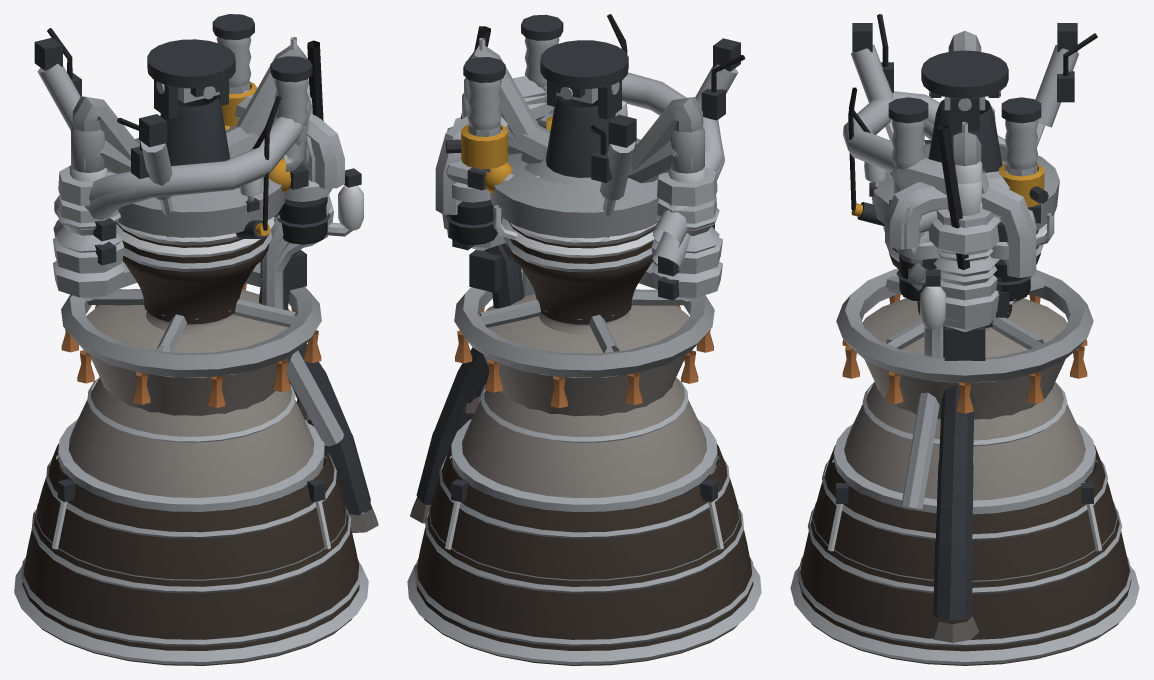
Rendered from engine_s.glb.
3 views of the same model, side by side, from view 1: azimuth 30°, elevation 25°; view 2: azimuth 150°, elevation 25°; view 3: azimuth 270°, elevation 25° (orthographic).
Parts seen in each view (by area): view 1: slot_nozzleExt__ablative, slot_contour, slot_contour__aerospike, slot_cycle__ffsc, slot_cycle__sc_fuel, slot_cycle, gimbal_block, slot_chamber__ablative, slot_nozzleExt, actuators, slot_cycle__electric, ducts (+7 smaller); view 2: slot_nozzleExt__ablative, slot_contour, slot_contour__aerospike, slot_cycle__sc_fuel, slot_cycle__ffsc, gimbal_block, slot_chamber__ablative, slot_cycle, slot_nozzleExt, actuators, ducts, slot_cycle__electric (+7 smaller); view 3: slot_nozzleExt__ablative, slot_contour__aerospike, slot_contour, slot_cycle, slot_cycle__sc, slot_cycle__ffsc, gimbal_block, actuators, slot_nozzleExt, slot_cycle__electric, ducts, slot_cycle__sc_fuel (+4 smaller).
Part boxes in pixels (x1,y1,x2,y2): slot_nozzleExt__ablative: [21, 443, 361, 665]; slot_contour: [58, 311, 324, 511]; slot_contour__aerospike: [61, 262, 321, 415]; slot_cycle__ffsc: [53, 45, 342, 443]; slot_cycle__sc_fuel: [53, 87, 327, 300]; slot_cycle: [229, 82, 378, 532]; gimbal_block: [147, 39, 235, 165]; slot_chamber__ablative: [116, 222, 271, 324]; slot_nozzleExt: [14, 464, 368, 665]; actuators: [34, 28, 172, 236]; slot_cycle__electric: [260, 40, 332, 291]; ducts: [212, 14, 312, 126]; slot_nozzleExt__ablative: [414, 443, 754, 665]; slot_contour: [451, 311, 717, 511]; slot_contour__aerospike: [454, 262, 714, 416]; slot_cycle__sc_fuel: [447, 89, 724, 301]; slot_cycle__ffsc: [453, 46, 723, 276]; gimbal_block: [540, 40, 628, 177]; slot_chamber__ablative: [504, 221, 655, 324]; slot_cycle: [410, 75, 546, 523]; slot_nozzleExt: [407, 464, 761, 665]; actuators: [590, 38, 745, 237]; ducts: [463, 14, 563, 130]; slot_cycle__electric: [445, 26, 526, 292]; slot_nozzleExt__ablative: [797, 445, 1132, 665]; slot_contour__aerospike: [836, 268, 1093, 419]; slot_contour: [834, 318, 1095, 514]; slot_cycle: [885, 158, 1036, 642]; slot_cycle__sc: [892, 163, 1037, 508]; slot_cycle__ffsc: [843, 31, 1008, 507]; gimbal_block: [921, 50, 1008, 172]; actuators: [851, 14, 1097, 147]; slot_nozzleExt: [790, 482, 1139, 665]; slot_cycle__electric: [896, 125, 1031, 360]; ducts: [888, 97, 1041, 169]; slot_cycle__sc_fuel: [867, 96, 1059, 331].
Bounding box in the file's own units: 1.07 × 1.65 × 0.9933.
